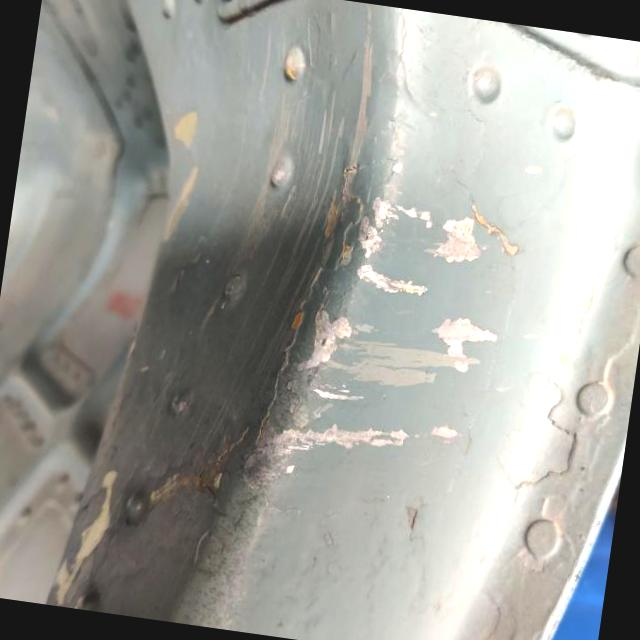paint-off: (207, 138, 557, 536)
